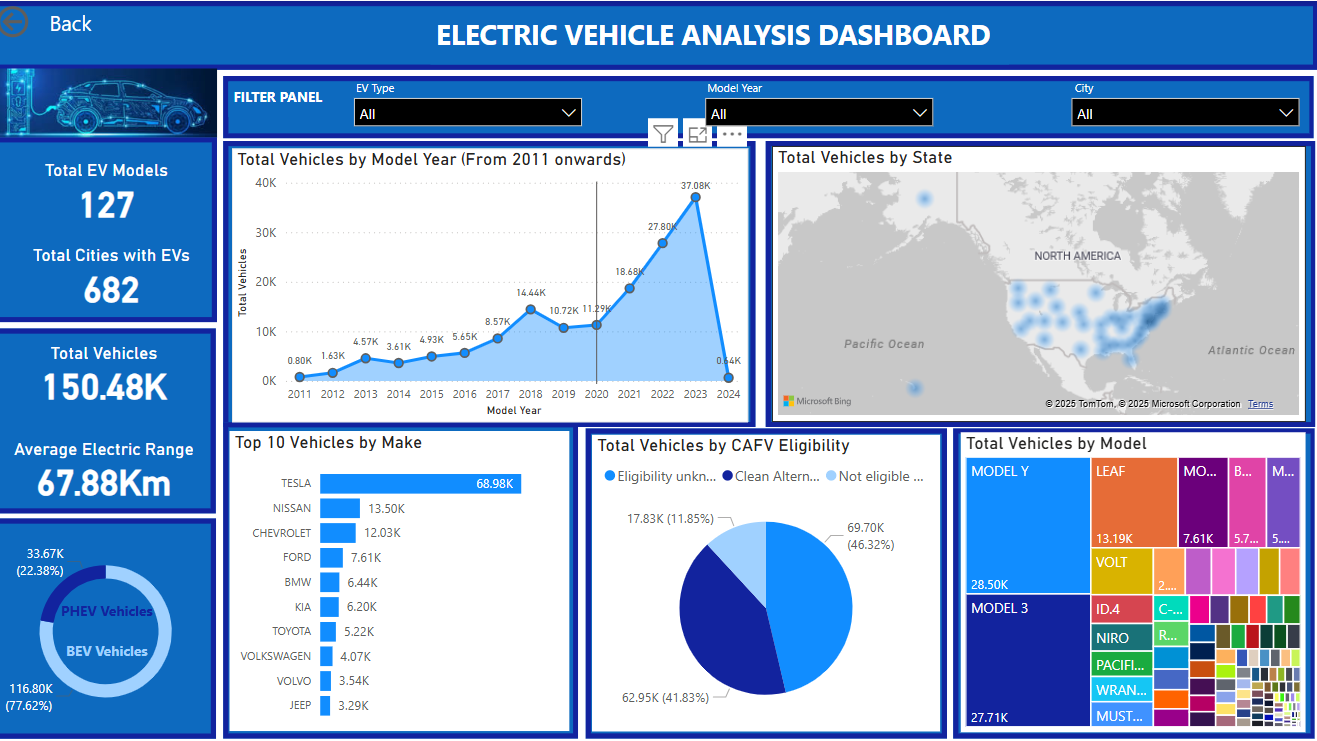

What the dashboard file says about the page in this screenshot:
{"tool":"powerbi","page":{"name":"Dashboard","canvas":[1280,720],"ordinal":0},"visuals":[{"type":"shape","box":[0,0,1280,66.4],"z":0},{"type":"shape","box":[0,316.3,216,178.6],"z":1000},{"type":"textbox","box":[423.5,8.4,557.4,53.1],"z":2000},{"type":"card","title":"Total Vehicles","fields":{"Values":["Electric_Vehicle_Data_Population.TOTALVEHICLE"]},"box":[0,329.6,216.2,61.5],"z":3000},{"type":"card","title":"Average Electric Range","fields":{"Values":["Electric_Vehicle_Data_Population.Avg Electric Range"]},"box":[0,422.7,216.2,61.5],"z":4000},{"type":"shape","box":[1.2,499.7,215,212.5],"z":5000},{"type":"donutChart","fields":{"Category":["Electric_Vehicle_Data_Population.EV TYPE"],"Y":["Electric_Vehicle_Data_Population.TOTALVEHICLE"]},"box":[3.7,505.9,212.5,206.2],"z":6000},{"type":"textbox","box":[66.2,612.5,105,38.8],"z":7000},{"type":"textbox","box":[61.5,574.3,109.8,35],"z":8000},{"type":"shape","box":[223.8,135,513.8,276.2],"z":9000},{"type":"shape","box":[746.2,135,531.2,276.2],"z":10000},{"type":"shape","box":[223.2,406.6,342.6,305.2],"z":11000},{"type":"shape","box":[573.1,412.6,348.7,299.2],"z":12000},{"type":"shape","box":[223.2,72.4,1053.2,60.3],"z":13000},{"type":"areaChart","title":"Total Vehicles by Model Year (From 2011 onwards)","fields":{"Category":["Electric_Vehicle_Data_Population.Model Year"],"Y":["Electric_Vehicle_Data_Population.TOTALVEHICLE"]},"box":[231.6,142.4,498.3,264.2],"z":14000},{"type":"map","title":"Total Vehicles by State","fields":{"Category":["Electric_Vehicle_Data_Population.State"]},"box":[752.8,139.9,515.2,266.6],"z":15000},{"type":"actionButton","box":[0,0,100,40],"z":16000},{"type":"barChart","title":"Top 10 Vehicles by Make","fields":{"Category":["Electric_Vehicle_Data_Population.Make"],"Y":["Electric_Vehicle_Data_Population.TOTALVEHICLE"]},"box":[229.2,415,328.2,289.5],"z":17000},{"type":"pieChart","title":"Total Vehicles by CAFV Eligibility","fields":{"Category":["Electric_Vehicle_Data_Population.Clean Alternative Fuel Vehicle (CAFV) Eligibility"],"Y":["Electric_Vehicle_Data_Population.TOTALVEHICLE"]},"box":[578.8,418.8,336.2,286.2],"z":18000},{"type":"shape","box":[927.8,412.6,349.9,299.2],"z":19000},{"type":"treemap","title":"Total Vehicles by Model","fields":{"Group":["Electric_Vehicle_Data_Population.Model"],"Values":["Electric_Vehicle_Data_Population.TOTALVEHICLE"]},"box":[935,416.2,333,289.5],"z":20000},{"type":"shape","box":[1,131.3,216,178.6],"z":21000},{"type":"card","title":"Total EV Models","fields":{"Values":["Count(Electric_Vehicle_Data_Population.Model)"]},"box":[2.5,152.8,216,61.5],"z":22000},{"type":"card","title":"Total Cities with EVs","fields":{"Values":["Count(Electric_Vehicle_Data_Population.City)"]},"box":[7.3,234.8,216,61.5],"z":23000},{"type":"textbox","box":[228,78.4,125.5,33.8],"z":24000},{"type":"slicer","fields":{"Values":["Electric_Vehicle_Data_Population.EV TYPE"]},"box":[339.3,83.3,240,44],"z":25000},{"type":"textbox","box":[346,68.7,66.7,32],"z":26000},{"type":"slicer","fields":{"Values":["Electric_Vehicle_Data_Population.Model Year"]},"box":[677.9,83.3,240,44],"z":27000},{"type":"textbox","box":[684.9,68.7,96.7,32],"z":28000},{"type":"slicer","fields":{"Values":["Electric_Vehicle_Data_Population.City","Electric_Vehicle_Data_Population.Make"]},"box":[1032,83.3,240,44],"z":29000},{"type":"textbox","box":[1040,68.7,96.7,32],"z":30000},{"type":"image","box":[1.2,65,216,66.2],"z":31000}]}

Visuals, with their boxes in screenshot pixels (x1, y1, x2, y2), scaled from the page's 1280x720 canvas onto the 1317x741 screenshot:
shape: (0,0,1316,68)
shape: (0,326,222,509)
textbox: (436,9,1009,63)
"Total Vehicles" card: (0,339,222,403)
"Average Electric Range" card: (0,435,222,498)
shape: (1,514,222,733)
donutChart - Electric_Vehicle_Data_Population.EV TYPE x Electric_Vehicle_Data_Population.TOTALVEHICLE: (4,521,222,733)
textbox: (68,630,176,670)
textbox: (63,591,176,627)
shape: (230,139,759,423)
shape: (768,139,1314,423)
shape: (230,418,582,733)
shape: (590,425,948,733)
shape: (230,75,1313,137)
"Total Vehicles by Model Year (From 2011 onwards)" areaChart: (238,147,751,418)
"Total Vehicles by State" map: (775,144,1305,418)
actionButton: (0,0,103,41)
"Top 10 Vehicles by Make" barChart: (236,427,574,725)
"Total Vehicles by CAFV Eligibility" pieChart: (596,431,941,726)
shape: (955,425,1315,733)
"Total Vehicles by Model" treemap: (962,428,1305,726)
shape: (1,135,223,319)
"Total EV Models" card: (3,157,225,221)
"Total Cities with EVs" card: (8,242,230,305)
textbox: (235,81,364,115)
slicer - Electric_Vehicle_Data_Population.EV TYPE: (349,86,596,131)
textbox: (356,71,425,104)
slicer - Electric_Vehicle_Data_Population.Model Year: (697,86,944,131)
textbox: (705,71,804,104)
slicer - Electric_Vehicle_Data_Population.City x Electric_Vehicle_Data_Population.Make: (1062,86,1309,131)
textbox: (1070,71,1170,104)
image: (1,67,223,135)
